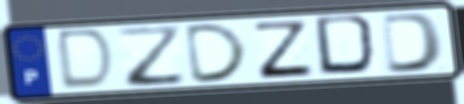D: (312, 13, 384, 78), (183, 21, 252, 86), (379, 11, 448, 75), (57, 27, 118, 92)
Z: (114, 23, 189, 89), (252, 20, 316, 81)
